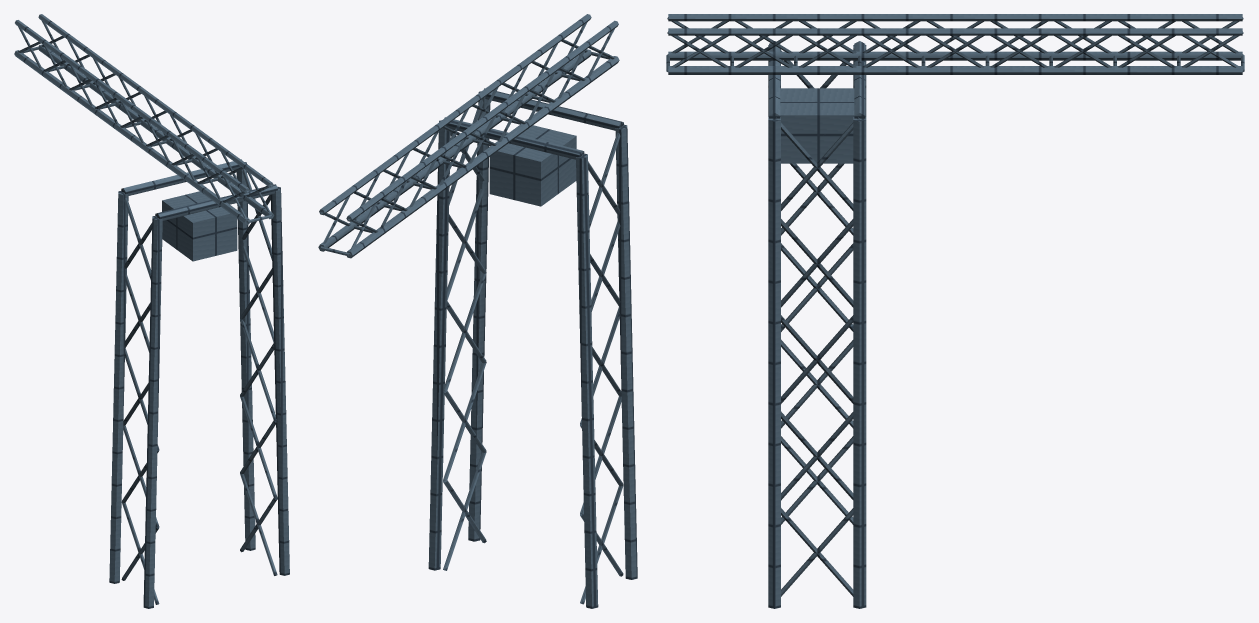
The model's file is gantry-crane.glb.
3 renders of one model, left to right at view 1: azimuth 30°, elevation 25°; view 2: azimuth 150°, elevation 25°; view 3: azimuth 270°, elevation 25°, orthographic. The views are drawn at different scales.
Parts seen in each view (by area): view 1: Tapered gantry pier, Tapered gantry pier.001, Tapered gantry pier.002, Operator cabin, Tapered gantry pier.003, Boom chord, Boom upper chord.001, Boom upper chord, Boom chord.001, Header.001, Header, Lattice cross.012 (+3 smaller); view 2: Tapered gantry pier.001, Tapered gantry pier, Tapered gantry pier.003, Operator cabin, Tapered gantry pier.002, Boom chord, Boom upper chord.001, Boom upper chord, Boom chord.001, Header.001, Header, Lattice cross.013 (+5 smaller); view 3: Tapered gantry pier.003, Tapered gantry pier.002, Operator cabin, Boom chord.001, Boom upper chord, Boom upper chord.001, Boom chord.
Part boxes in pixels (left/top/right/bottom): Tapered gantry pier: left=143, top=216, right=162, bottom=608; Tapered gantry pier.001: left=109, top=191, right=128, bottom=583; Tapered gantry pier.002: left=270, top=186, right=289, bottom=575; Operator cabin: left=162, top=191, right=237, bottom=261; Tapered gantry pier.003: left=236, top=162, right=255, bottom=550; Boom chord: left=14, top=50, right=249, bottom=224; Boom upper chord.001: left=38, top=14, right=273, bottom=187; Boom upper chord: left=15, top=20, right=249, bottom=193; Boom chord.001: left=38, top=44, right=274, bottom=219; Header.001: left=121, top=159, right=241, bottom=195; Header: left=155, top=184, right=277, bottom=220; Lattice cross.012: left=240, top=396, right=277, bottom=498; Tapered gantry pier.001: left=576, top=153, right=598, bottom=608; Tapered gantry pier: left=615, top=124, right=637, bottom=579; Tapered gantry pier.003: left=428, top=120, right=450, bottom=570; Operator cabin: left=489, top=125, right=576, bottom=206; Tapered gantry pier.002: left=468, top=91, right=490, bottom=541; Boom chord: left=347, top=56, right=619, bottom=258; Boom upper chord.001: left=319, top=14, right=591, bottom=215; Boom upper chord: left=346, top=20, right=618, bottom=221; Boom chord.001: left=318, top=49, right=591, bottom=251; Header.001: left=444, top=117, right=584, bottom=159; Header: left=484, top=88, right=623, bottom=130; Lattice cross.013: left=443, top=362, right=486, bottom=480; Tapered gantry pier.003: left=853, top=117, right=866, bottom=608; Tapered gantry pier.002: left=768, top=117, right=780, bottom=608; Operator cabin: left=780, top=88, right=854, bottom=163; Boom chord.001: left=668, top=66, right=1242, bottom=74; Boom upper chord: left=668, top=14, right=1242, bottom=21; Boom upper chord.001: left=668, top=28, right=1242, bottom=35; Boom chord: left=668, top=51, right=1242, bottom=60.
Bounding box in the file's own units: 9.9 × 28.21 × 27.17.
2 materials, 2 textured.
